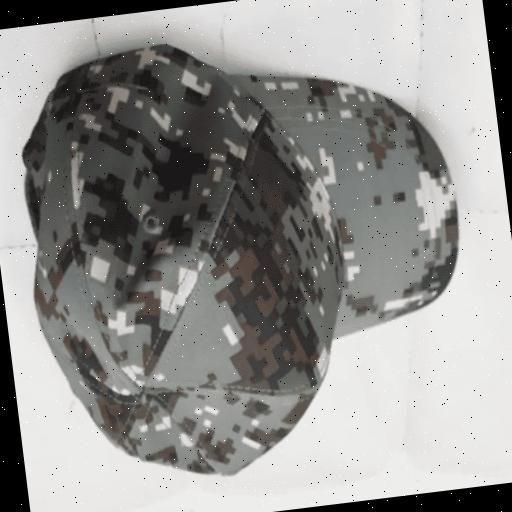korea army: (6, 20, 490, 499), (8, 20, 482, 494)
